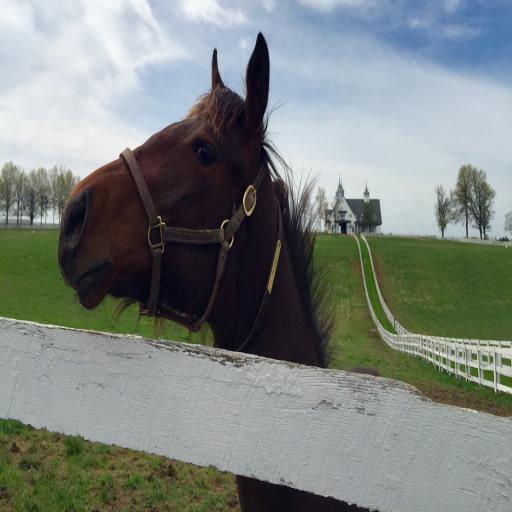horse: (54, 32, 382, 512)
